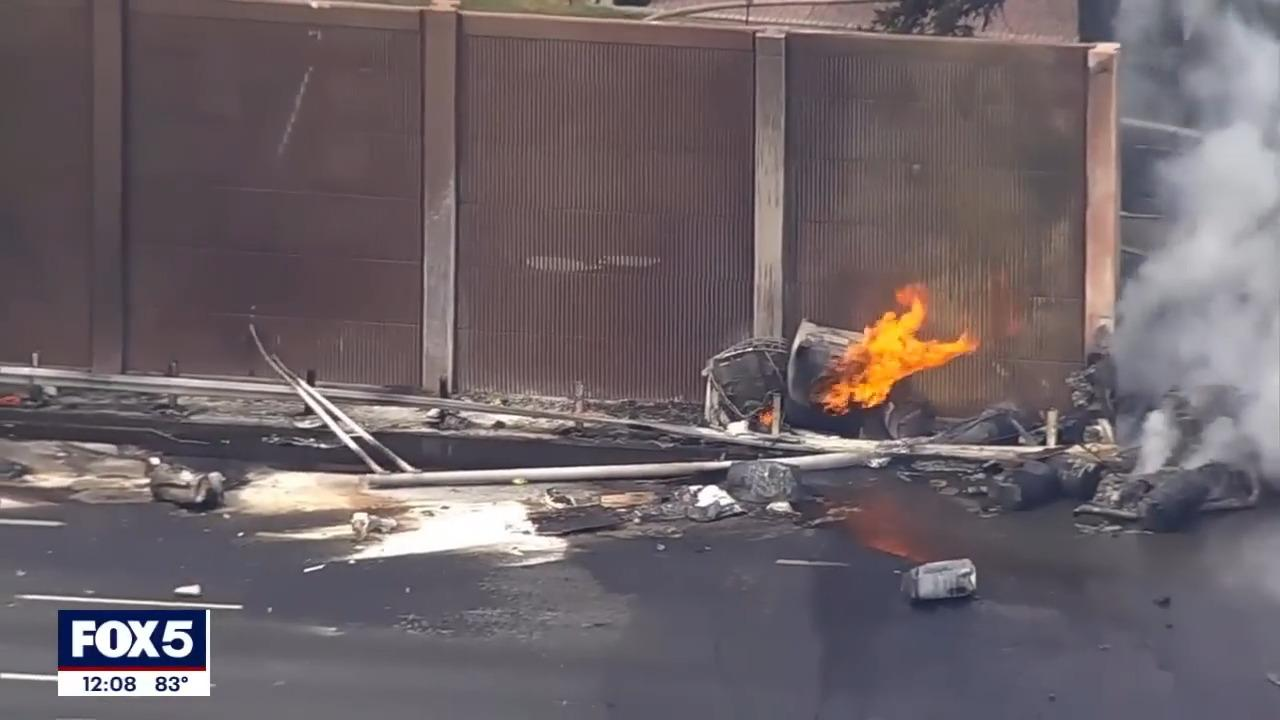fire: (821, 280, 975, 412)
